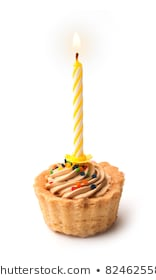Fire: (67, 31, 85, 55)
